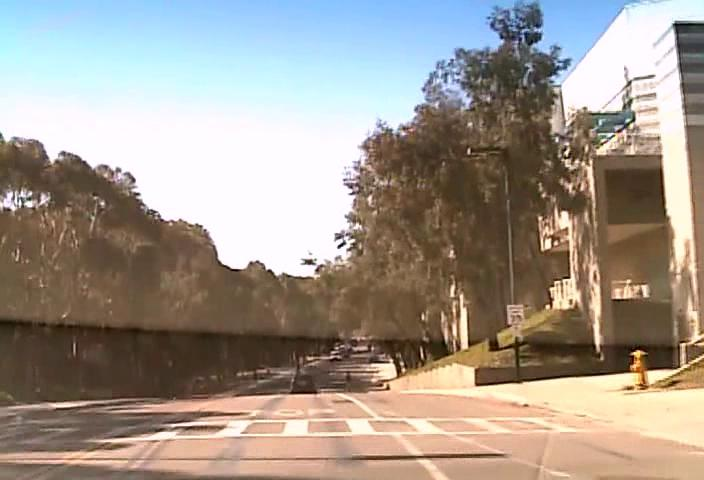speedLimitUrdbl: (506, 304, 525, 325)
